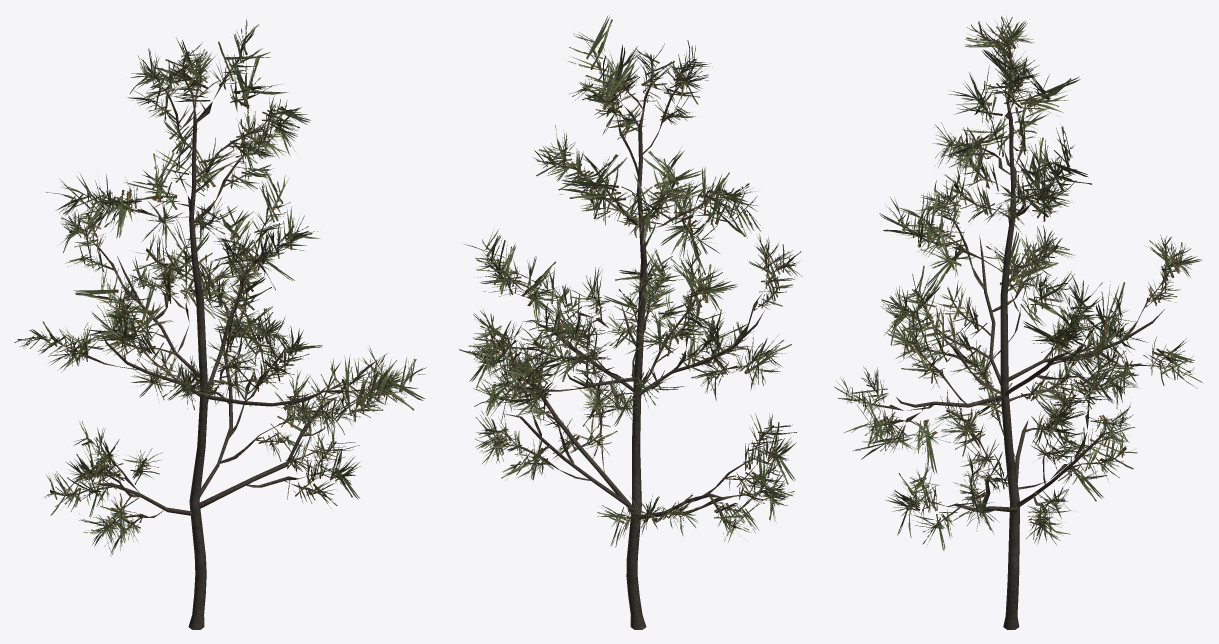
File: pine-sapling.glb
The picture shows the model from 3 angles, left to right: view 1: azimuth 30°, elevation 25°; view 2: azimuth 150°, elevation 25°; view 3: azimuth 270°, elevation 25°; orthographic projection.
Parts seen in each view (by area): view 1: pine_sapling_small_a; view 2: pine_sapling_small_a; view 3: pine_sapling_small_a.
Boxes of the visible parts, x1,y1,x2,y2 form: pine_sapling_small_a: (14,19,426,629); pine_sapling_small_a: (459,15,802,629); pine_sapling_small_a: (834,16,1203,629).
Size of the model in its own units: 0.808 by 1.31 by 0.7355.
Materials: 2 (2 with a texture image).
